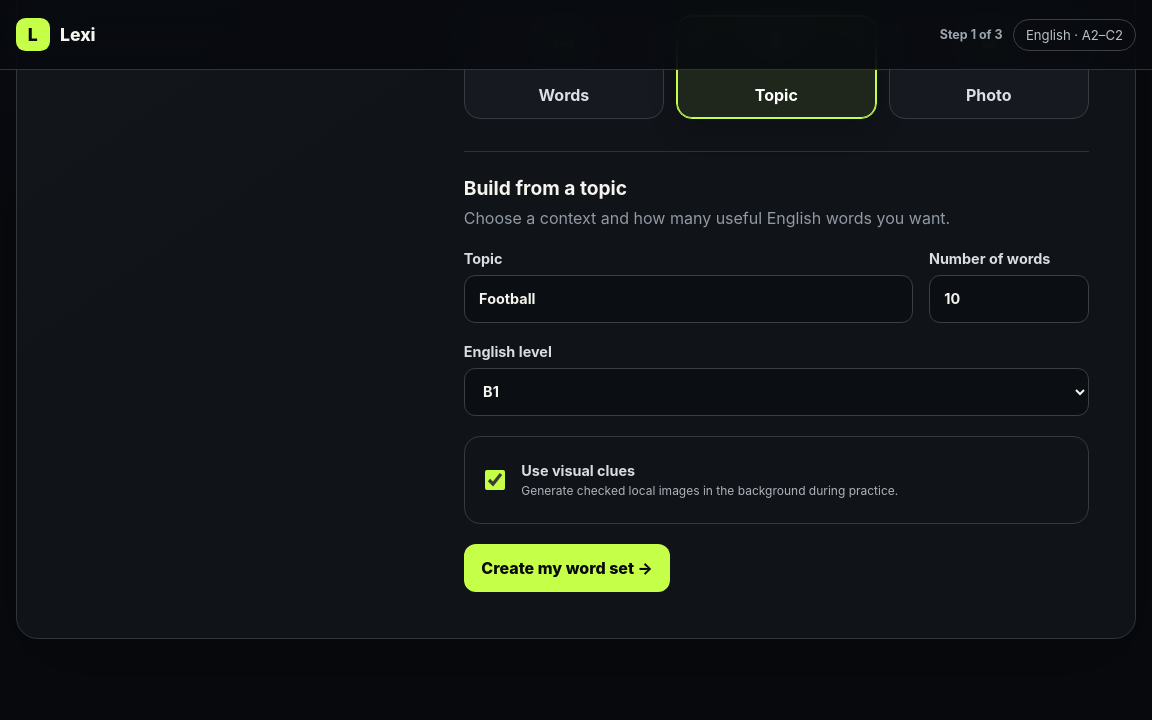
VocabularyPage › runs the complete training flow without requesting visual clues
This screenshot has width=1152, height=720.
(page scrolled)
Click the checkbox labelled "Use visual clues" at (495, 480), box top-left (485, 456), bottom-right (505, 504)
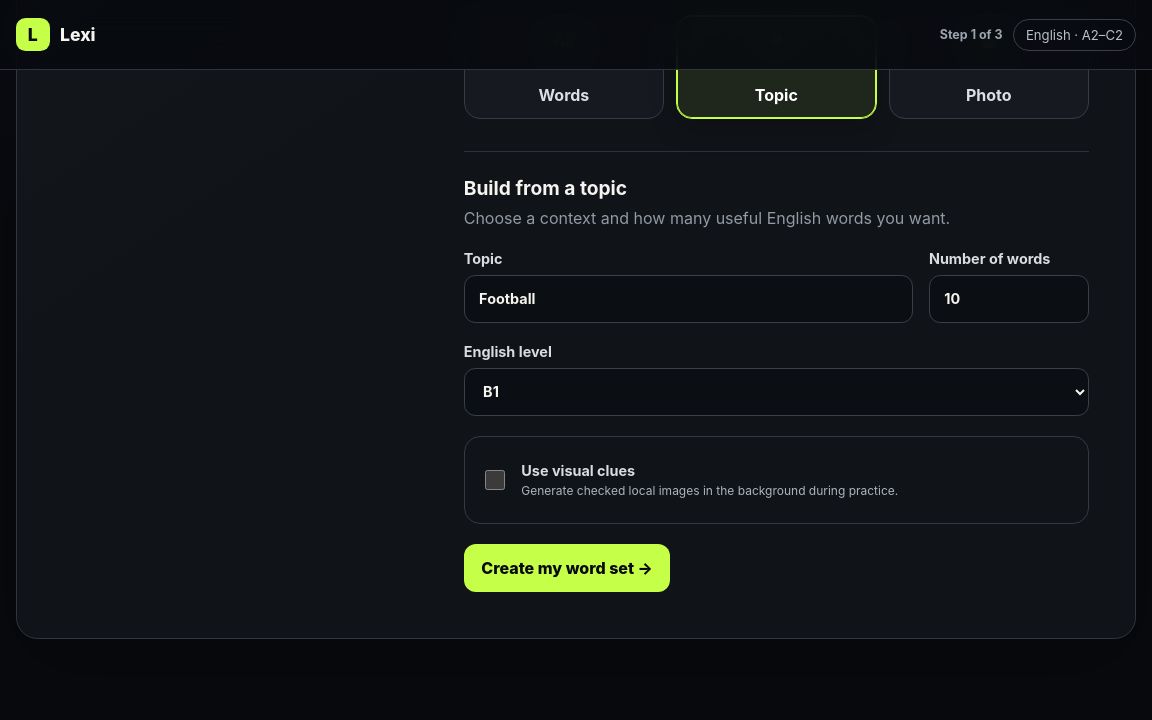
Submit the form named "Create my word set", box top-left (464, 151), bottom-right (1089, 592)
(page scrolled)
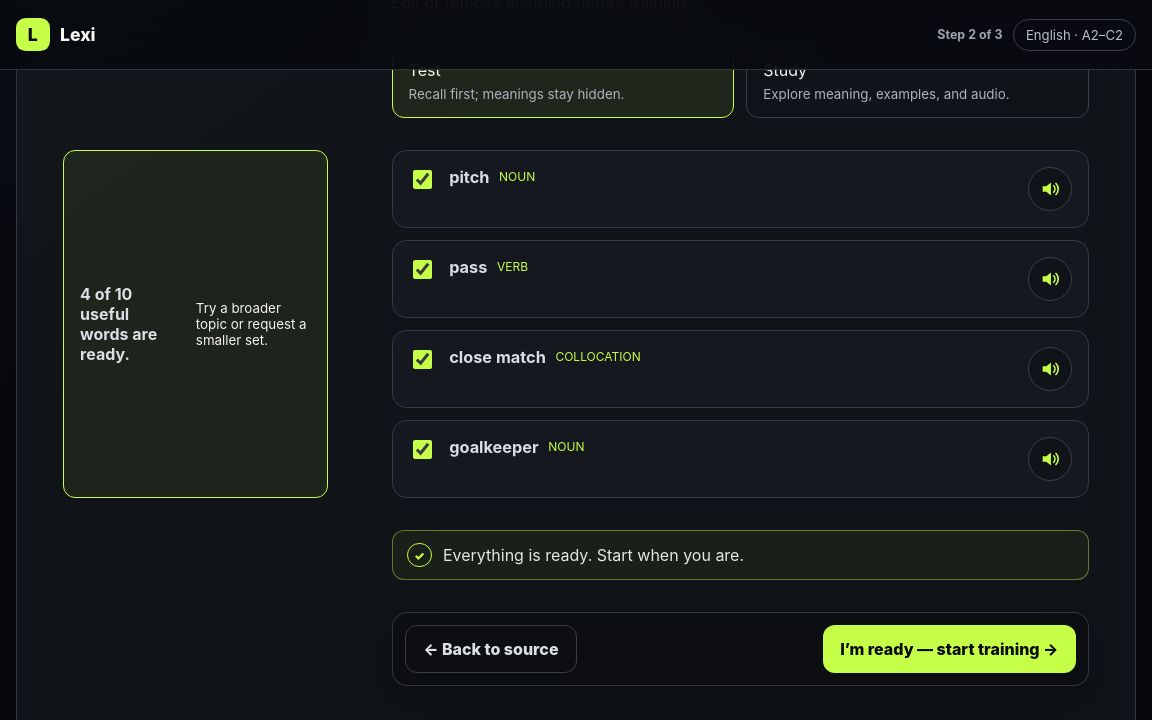
Click the button "I’m ready — start training →" at (949, 650), box top-left (822, 626), bottom-right (1076, 674)
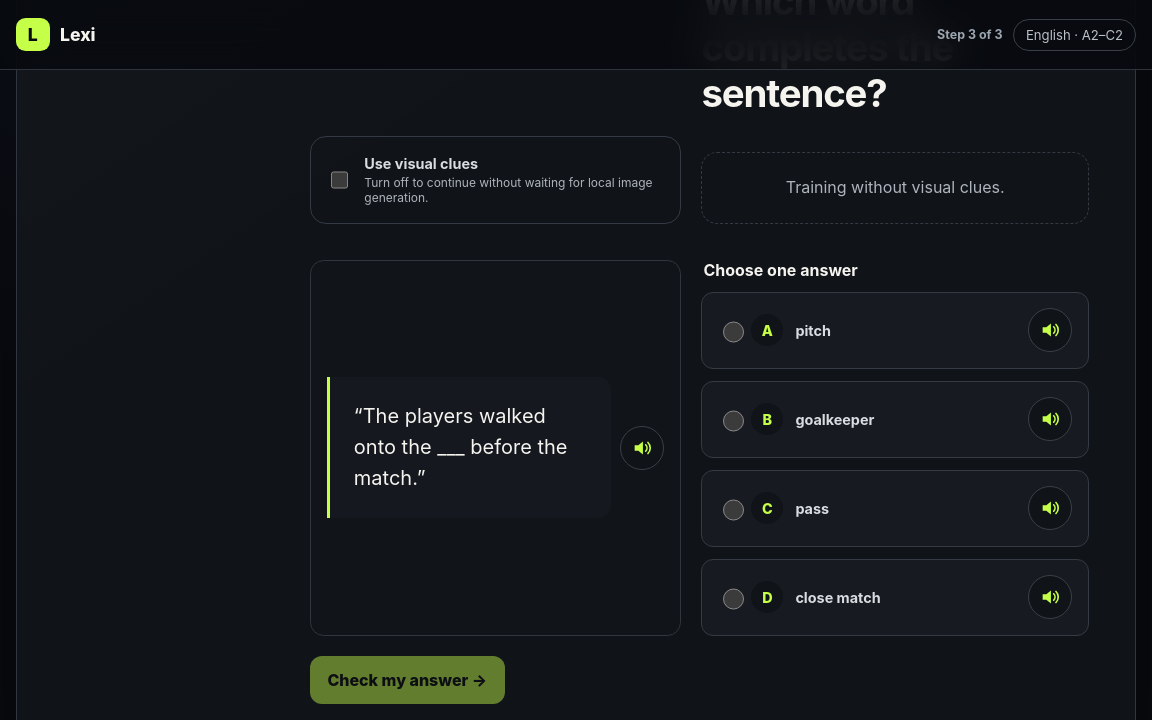
Expected: the text "Training without visual clues." is shown, top-left (701, 152), bottom-right (1089, 224)
